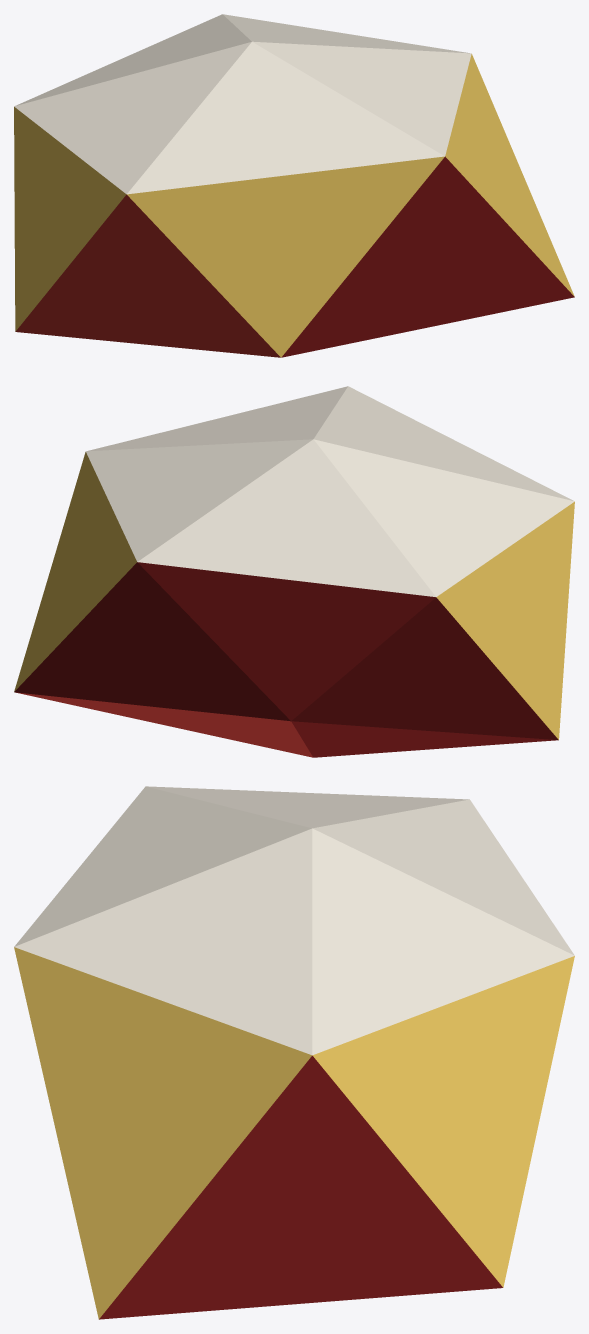
File: flesh_chunk_2.glb
The picture shows the model from 3 angles, top to bottom: view 1: azimuth 30°, elevation 25°; view 2: azimuth 150°, elevation 25°; view 3: azimuth 270°, elevation 25°; orthographic projection. The views are drawn at different scales.
Visible parts, largest first — view 1: flesh_chunk_2; view 2: flesh_chunk_2; view 3: flesh_chunk_2.
Boxes of the visible parts, left/top/right/bottom form: flesh_chunk_2: left=14, top=14, right=574, bottom=357; flesh_chunk_2: left=14, top=386, right=574, bottom=757; flesh_chunk_2: left=14, top=786, right=574, bottom=1319.
Bounding box in the file's own units: 0.0186 × 0.0114 × 0.0143.
